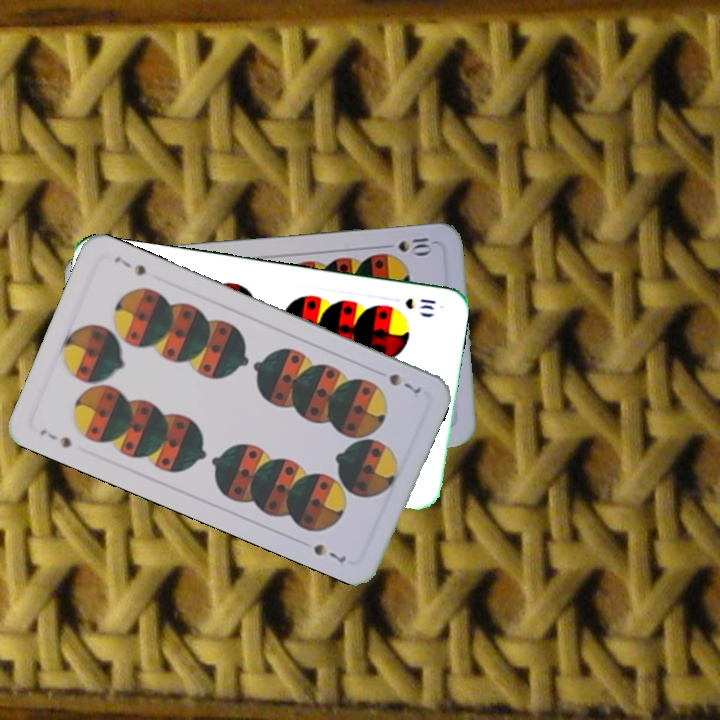S10: (394, 234, 435, 256), (401, 294, 439, 313)
S7: (385, 369, 424, 397), (35, 425, 74, 451)
